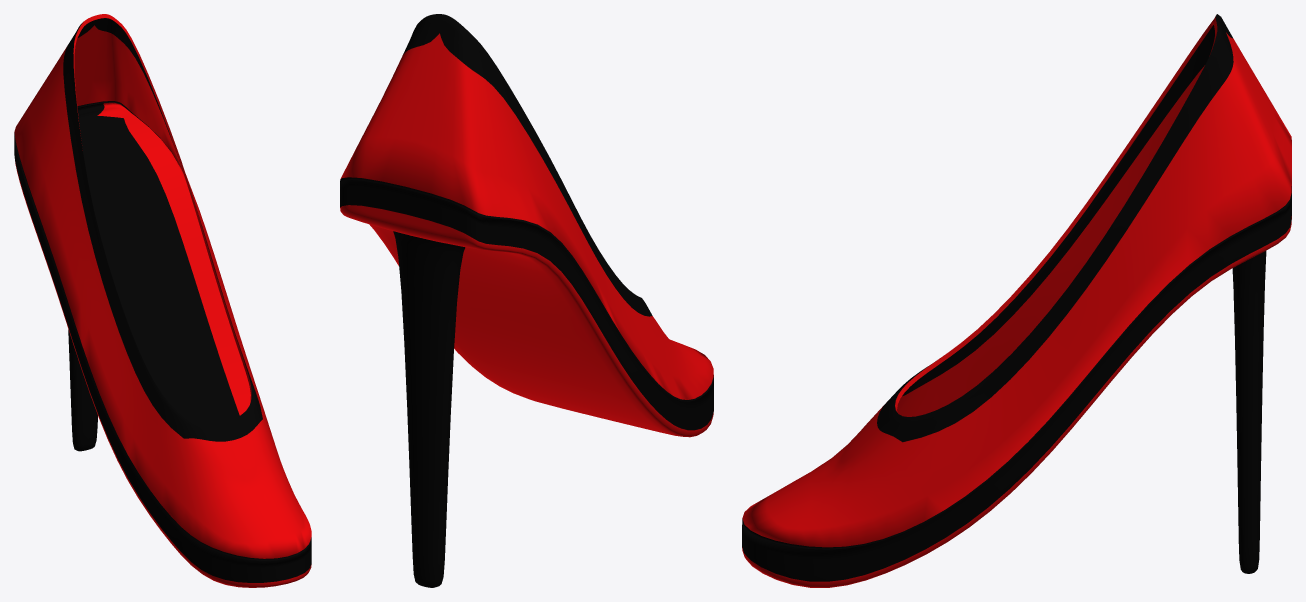
Rendered from HighHeel.fbx.
The picture shows the model from 3 angles, left to right: view 1: azimuth 30°, elevation 25°; view 2: azimuth 150°, elevation 25°; view 3: azimuth 270°, elevation 25°; orthographic projection. The views are drawn at different scales.
Visible parts, largest first — view 1: Plane; view 2: Plane; view 3: Plane.
Boxes of the visible parts, bbox=[...] form: Plane: bbox=[14, 14, 311, 587]; Plane: bbox=[340, 14, 713, 587]; Plane: bbox=[742, 14, 1291, 587].
Size of the model in its own units: 60.4 by 171 by 154.
